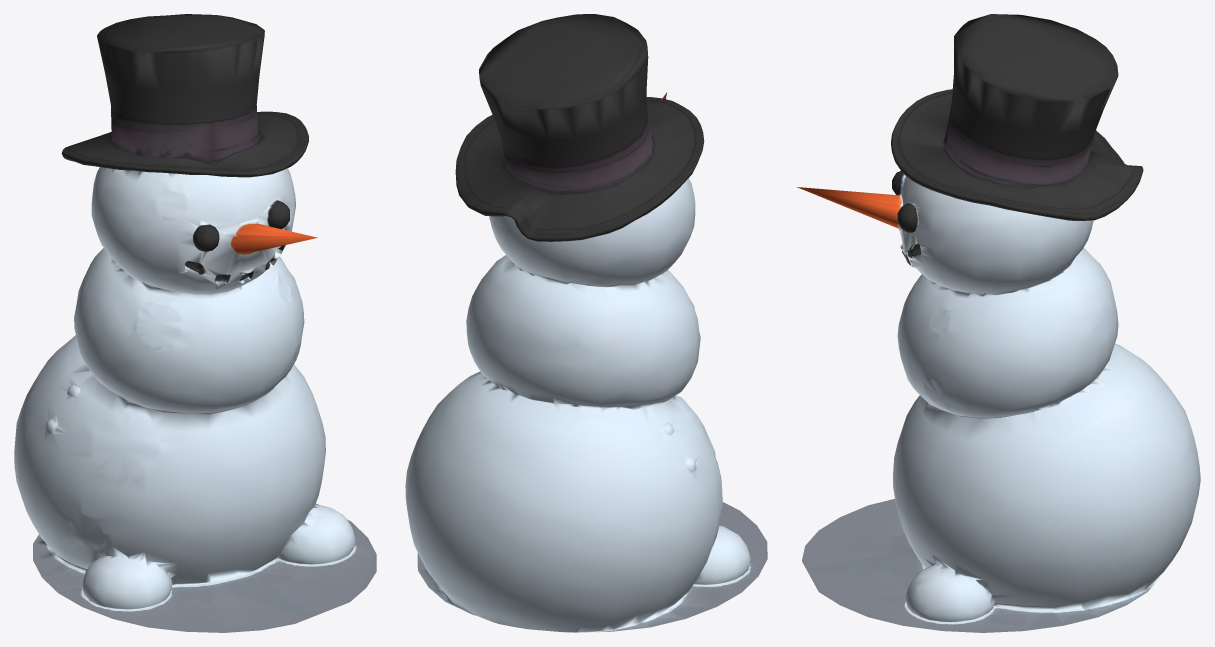
3 views of the same model, side by side, from view 1: azimuth 30°, elevation 25°; view 2: azimuth 150°, elevation 25°; view 3: azimuth 270°, elevation 25° (orthographic).
Visible parts, largest first — view 1: tripo_node_5d96eac0-93b3-4f95-b3f4-cc70dc72e97b; view 2: tripo_node_5d96eac0-93b3-4f95-b3f4-cc70dc72e97b; view 3: tripo_node_5d96eac0-93b3-4f95-b3f4-cc70dc72e97b.
Boxes of the visible parts, x1,y1,x2,y2 form: tripo_node_5d96eac0-93b3-4f95-b3f4-cc70dc72e97b: [14, 14, 376, 632]; tripo_node_5d96eac0-93b3-4f95-b3f4-cc70dc72e97b: [405, 14, 767, 632]; tripo_node_5d96eac0-93b3-4f95-b3f4-cc70dc72e97b: [797, 14, 1200, 632].
Bounding box in the file's own units: 0.5879 × 0.998 × 0.7012.
Materials: 1 (1 with a texture image).
